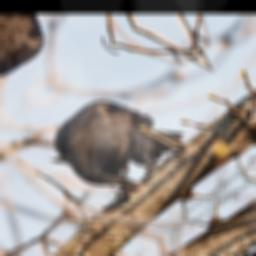Crow: (29, 75, 200, 216)
